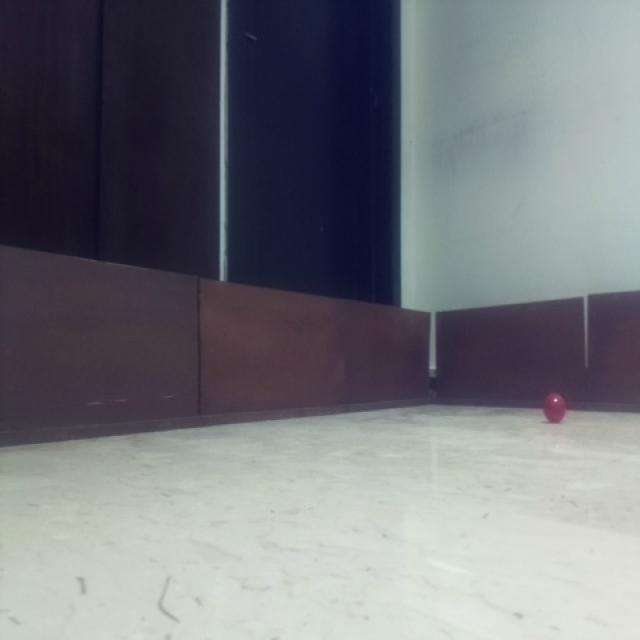ball: (541, 388, 570, 426)
